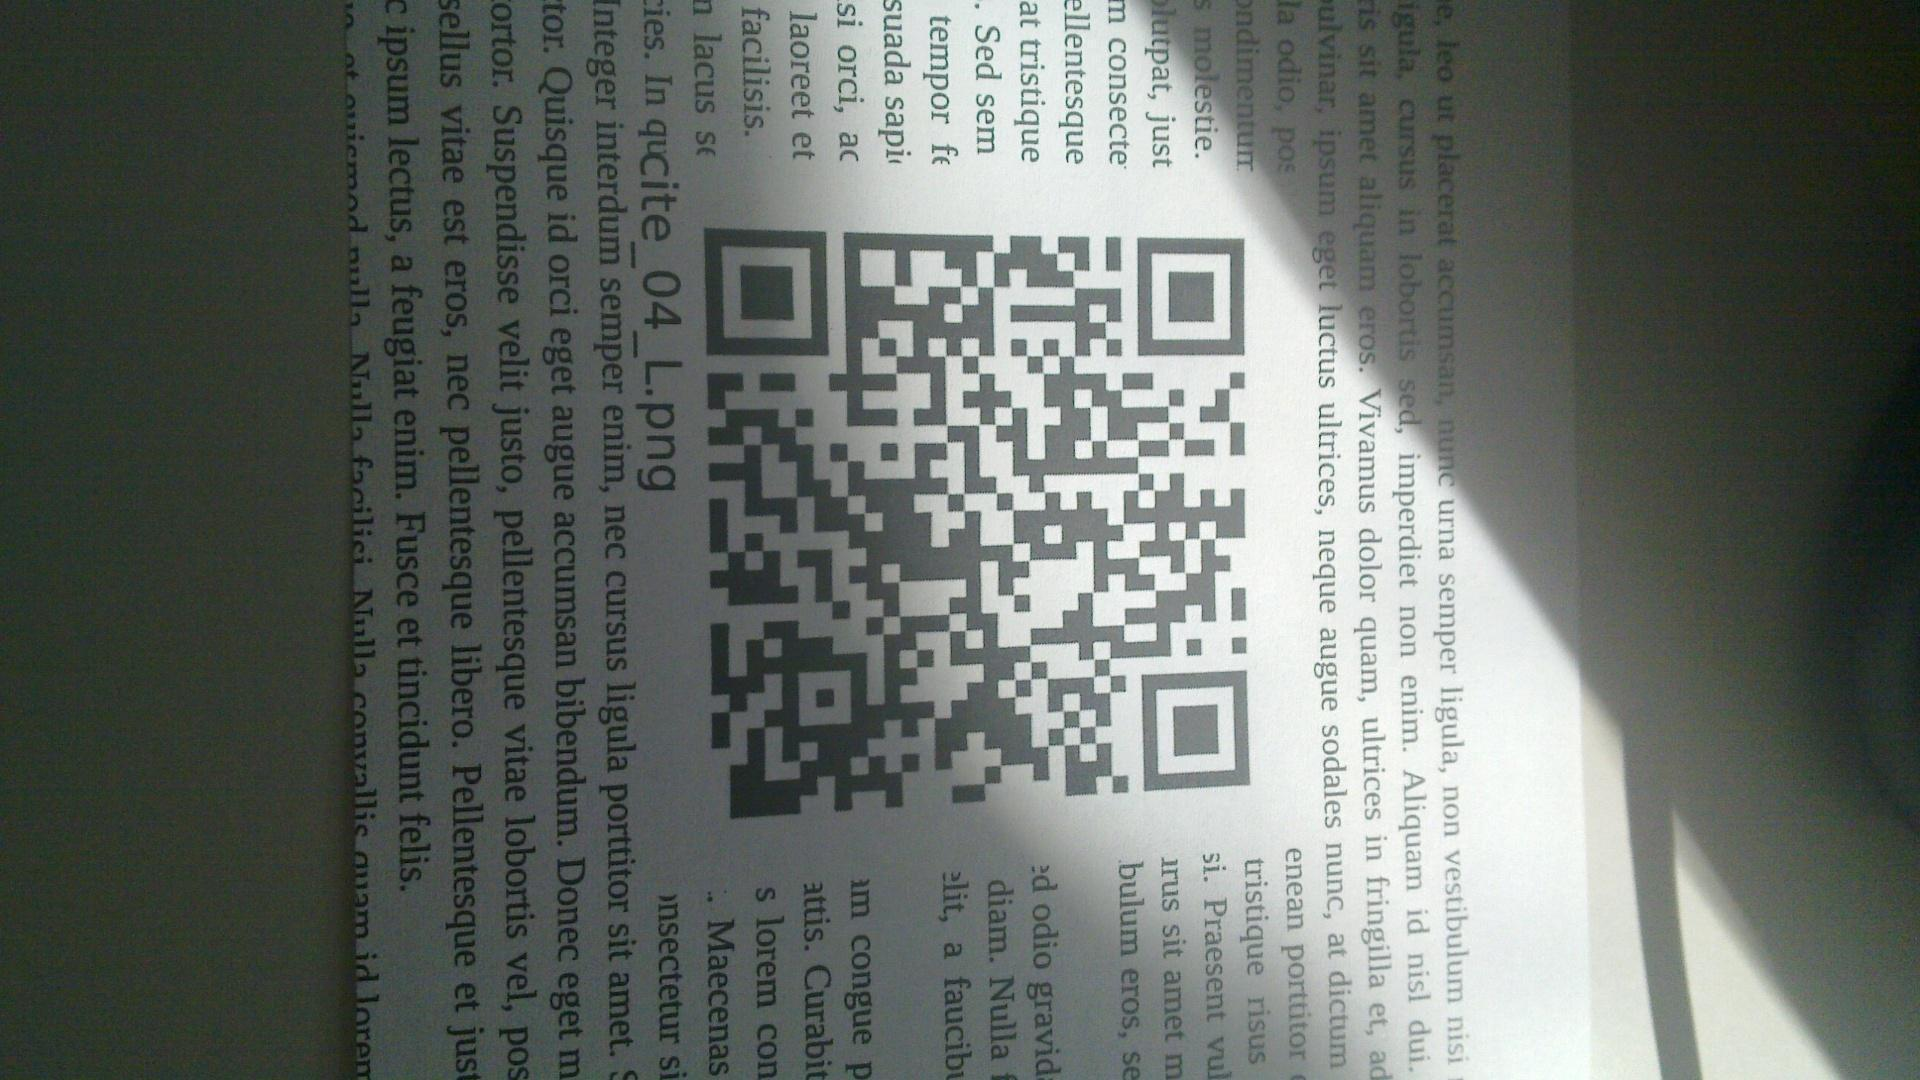qr_code: (702, 225, 1251, 820)
